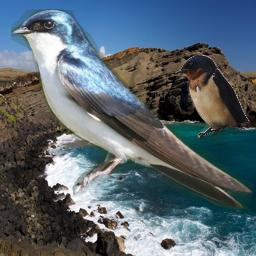Swallow: (11, 9, 253, 210), (175, 54, 250, 140)
